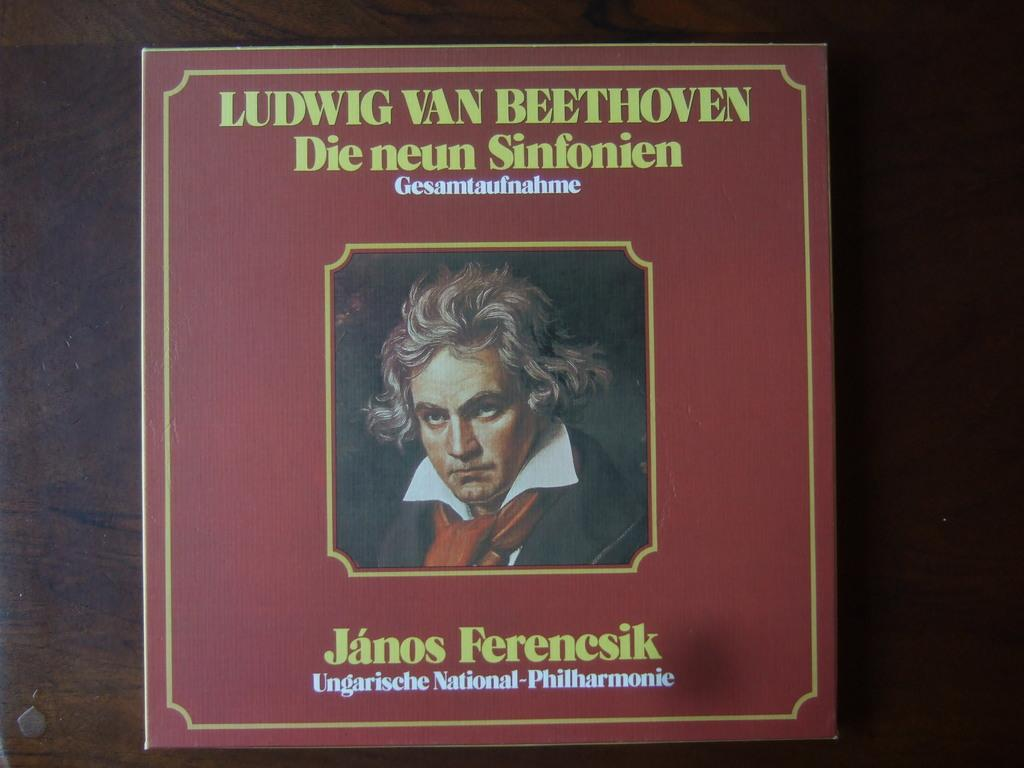book: (142, 44, 837, 751)
